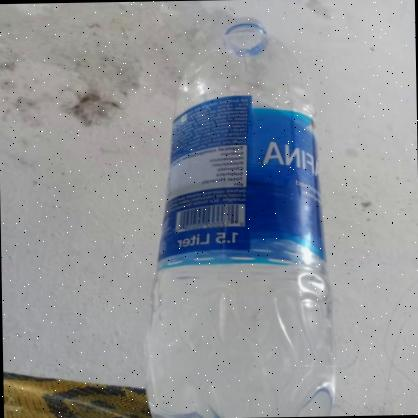bottle: (128, 12, 349, 418)
label: (130, 85, 337, 284)
